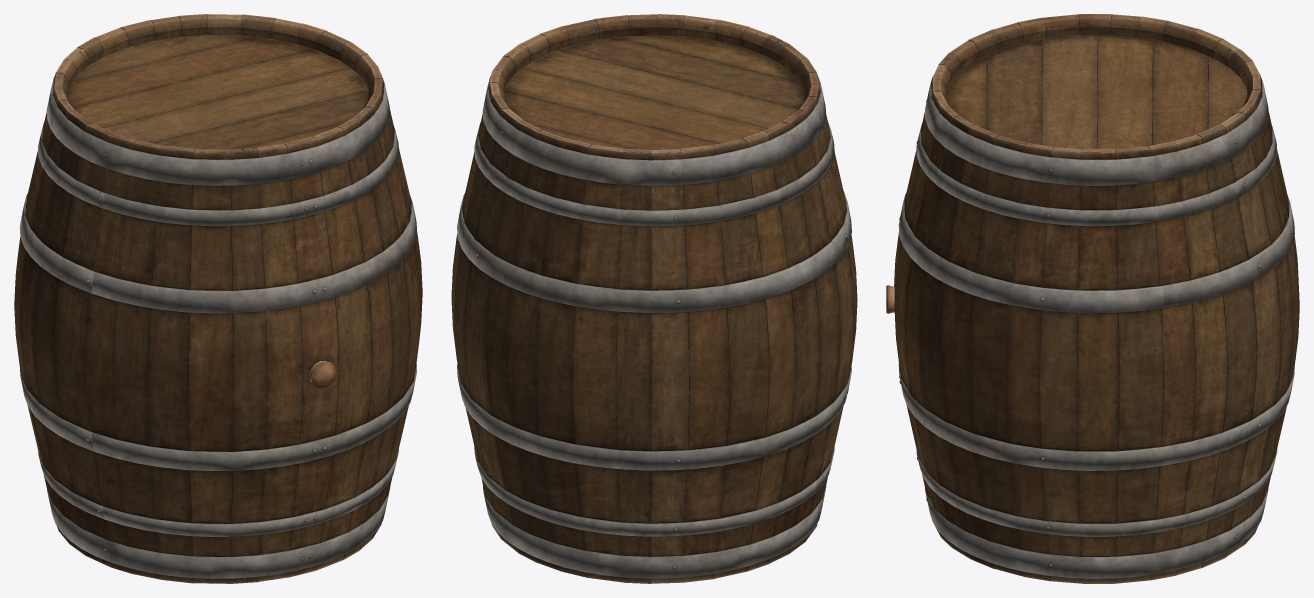
Rendered from Barrel.fbx.
3 renders of one model, left to right at view 1: azimuth 30°, elevation 25°; view 2: azimuth 150°, elevation 25°; view 3: azimuth 270°, elevation 25°, orthographic.
Visible parts, largest first — view 1: wine_barrel_01, wine_barrel_01_Lid, wine_barrel_01_bung; view 2: wine_barrel_01, wine_barrel_01_Lid; view 3: wine_barrel_01, wine_barrel_01_Lid.
Boxes of the visible parts, left/top/right/bottom form: wine_barrel_01: left=14, top=14, right=422, bottom=583; wine_barrel_01_Lid: left=67, top=35, right=368, bottom=149; wine_barrel_01_bung: left=309, top=361, right=336, bottom=387; wine_barrel_01: left=451, top=14, right=857, bottom=583; wine_barrel_01_Lid: left=504, top=35, right=805, bottom=152; wine_barrel_01: left=894, top=14, right=1299, bottom=583; wine_barrel_01_Lid: left=946, top=35, right=1247, bottom=149.
Bounding box in the file's own units: 80.89 × 95 × 82.41.
